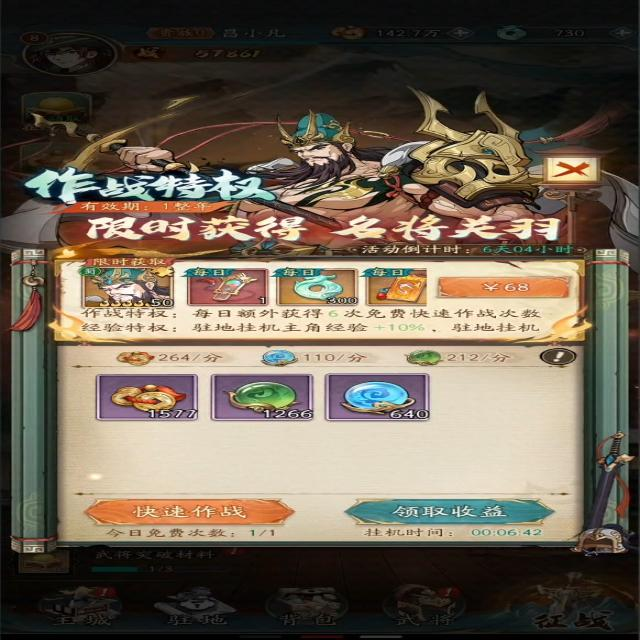navigation-fight: (82, 496, 299, 526)
operation-buy: (428, 273, 574, 299)
operation-close: (542, 153, 611, 183)
operation-confirm: (342, 496, 558, 527)
